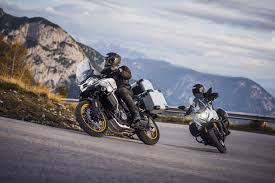motorcycle: (65, 64, 169, 146), (177, 86, 233, 154)
